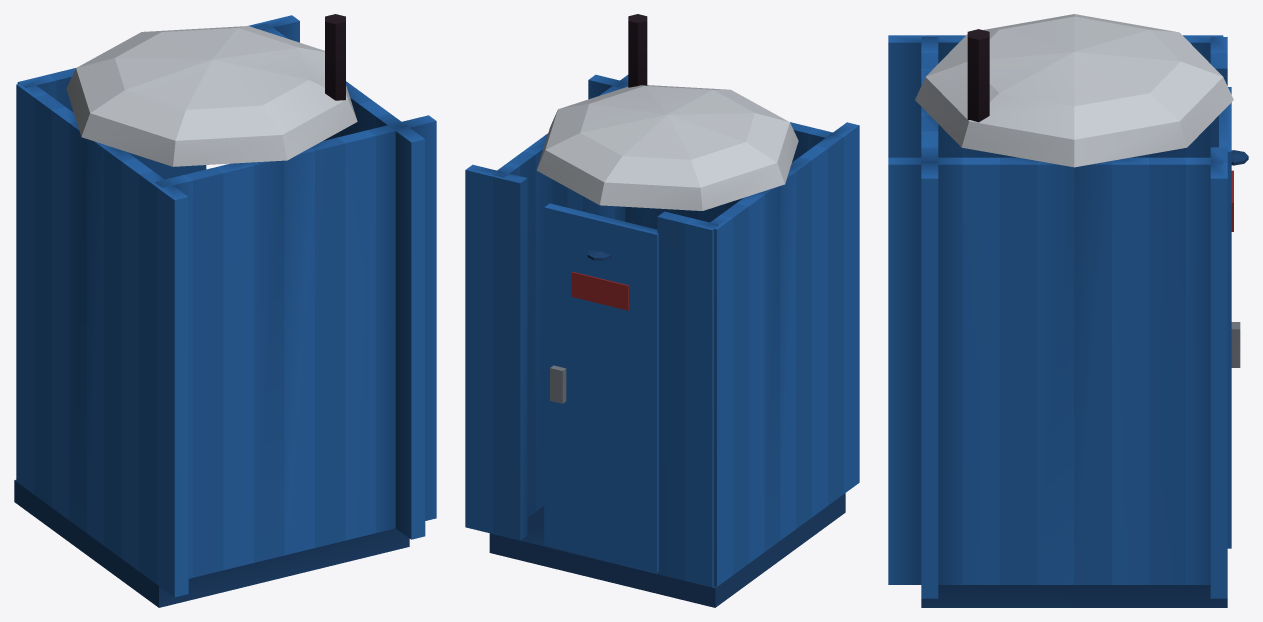
Rendered from y_potty.glb.
3 renders of one model, left to right at view 1: azimuth 30°, elevation 25°; view 2: azimuth 150°, elevation 25°; view 3: azimuth 270°, elevation 25°, orthographic. The views are drawn at different scales.
Visible parts, largest first — view 1: y_potty; view 2: y_potty; view 3: y_potty.
Boxes of the visible parts, x1,y1,x2,y2 form: y_potty: (14, 14, 436, 607); y_potty: (465, 14, 859, 607); y_potty: (888, 14, 1248, 607).
Size of the model in its own units: 1.62 by 2.85 by 1.69.
